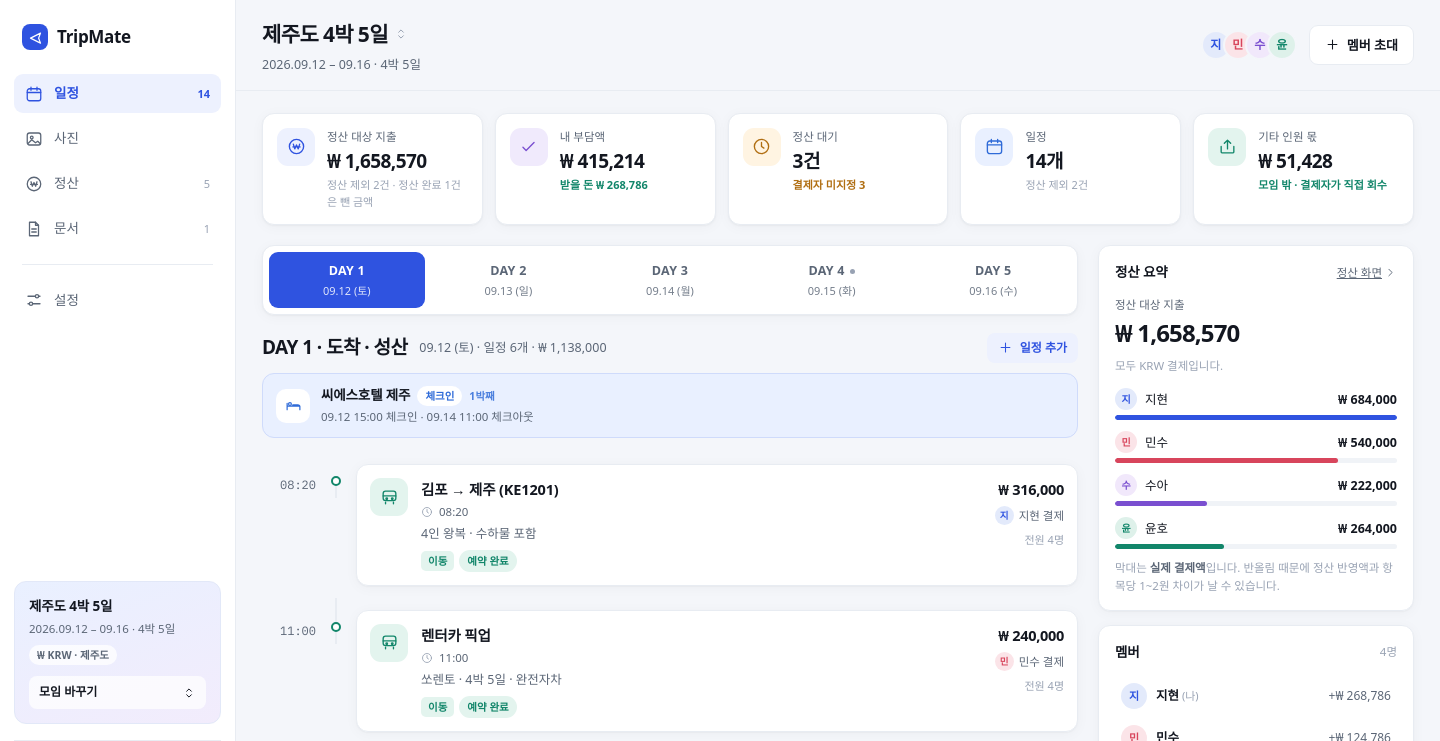
it: 일정 화면 › 이미 정산한 항목은 금액을 지우지 않고 '정산 완료' 배지를 붙인다
Click the button with class "daytab" showing "DAY 2 09.13 (일)" at (508, 280), box 431,252 -> 586,308
(page scrolled)
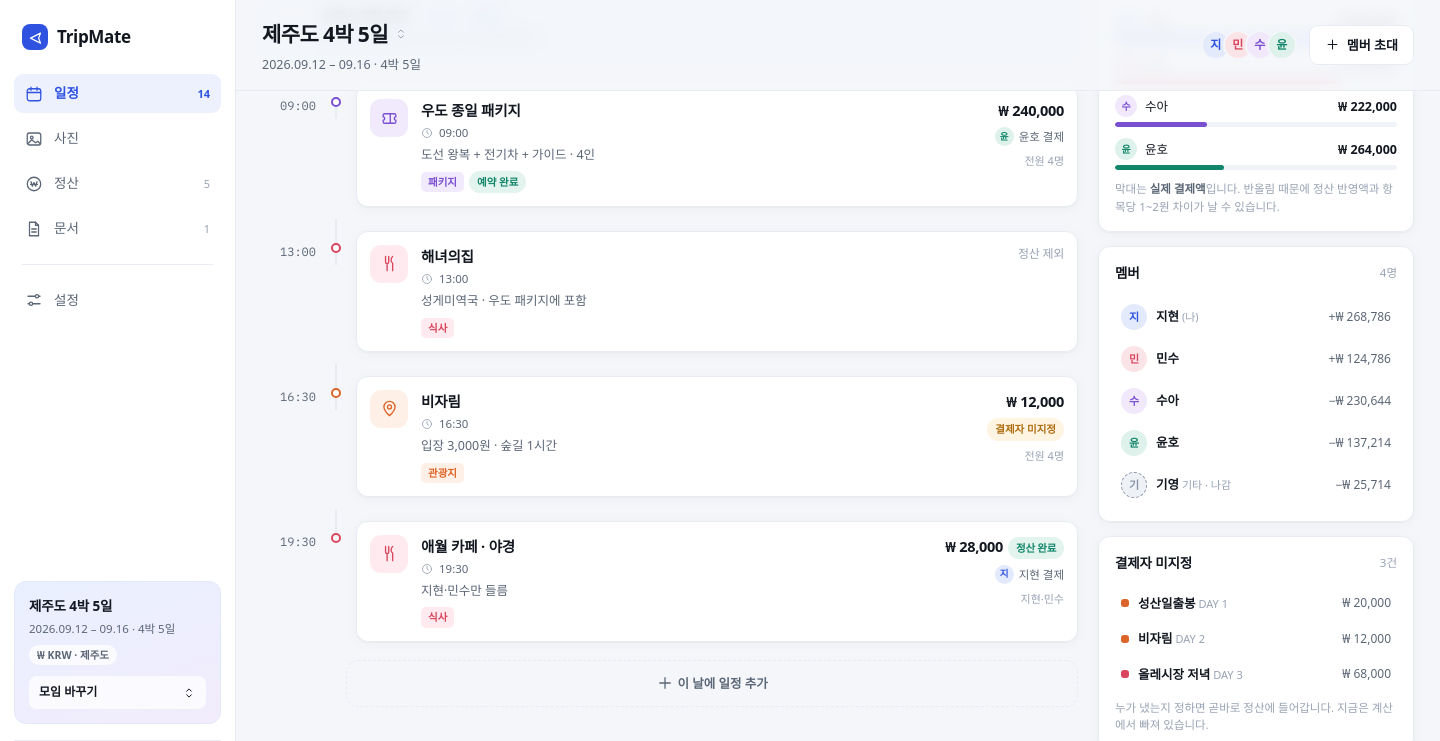
Result: the heading "애월 카페 · 야경" is shown at 421,536 -> 515,556
Result: the button "애월 카페 · 야경" shows "정산 완료" at 356,521 -> 1078,642
Result: the button "애월 카페 · 야경" shows "28,000" at 356,521 -> 1078,642
